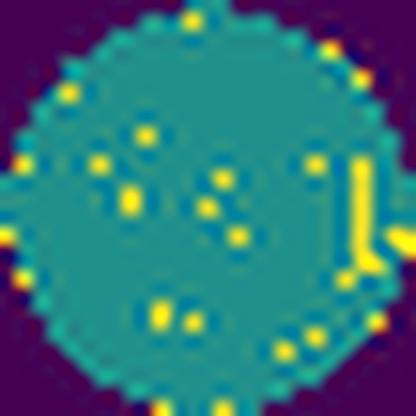Scratch: (336, 154, 388, 296)
